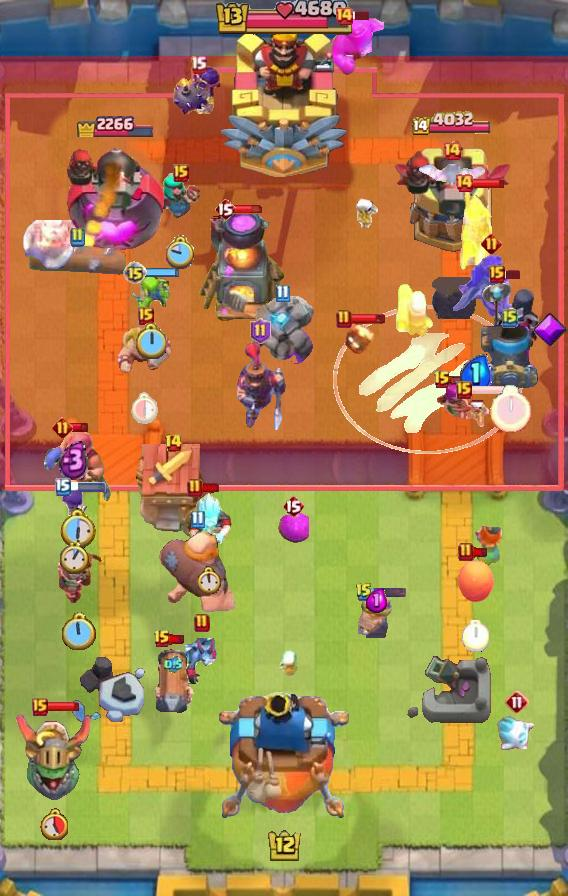archer: (429, 384, 483, 428)
axe: (21, 220, 77, 270)
bar: (470, 384, 507, 396), (350, 313, 386, 325), (371, 587, 407, 598), (145, 267, 180, 278), (69, 482, 107, 492), (46, 701, 80, 712), (471, 178, 505, 189), (233, 204, 265, 214), (202, 482, 221, 494), (502, 269, 522, 280), (351, 10, 371, 21), (70, 422, 89, 433), (449, 375, 468, 385), (169, 634, 186, 645), (472, 547, 489, 558)
bar-level: (505, 690, 529, 714), (123, 261, 147, 285), (250, 318, 271, 344), (282, 494, 304, 518), (214, 197, 236, 221), (52, 417, 73, 438), (481, 233, 502, 254), (454, 173, 474, 193), (442, 141, 462, 161), (334, 6, 354, 26), (164, 433, 183, 453), (153, 629, 171, 649), (355, 582, 373, 602), (433, 370, 451, 390), (190, 55, 207, 74), (194, 613, 210, 633), (458, 542, 474, 562), (187, 478, 203, 498), (336, 309, 352, 329), (502, 308, 518, 328), (69, 227, 85, 247), (32, 698, 48, 716), (55, 478, 71, 496), (456, 381, 472, 399), (138, 307, 154, 325), (489, 265, 505, 283), (173, 164, 189, 182), (190, 510, 205, 529), (275, 284, 290, 303)
bat-evolution: (417, 160, 487, 190)
bomb: (432, 277, 476, 319)
bomber-evolution: (171, 64, 225, 120)
cannoneer-tower: (392, 138, 514, 256), (64, 138, 165, 256)
clock: (490, 385, 531, 433), (58, 508, 96, 549), (60, 612, 96, 653), (135, 323, 166, 359), (166, 235, 196, 269), (131, 391, 161, 424), (60, 542, 89, 574), (40, 808, 68, 840), (462, 620, 489, 652), (198, 566, 222, 594)
elite-barbarian: (115, 325, 177, 377), (358, 592, 394, 639)
elixir: (459, 354, 492, 393), (59, 440, 89, 480), (366, 588, 387, 613), (164, 656, 183, 673)
elixir-golem-mid: (328, 18, 384, 76)
elixir-golem-small: (277, 513, 309, 543)
evolution-symbol: (532, 312, 568, 348)
fire-spirit: (343, 322, 375, 356)
firecracker: (394, 281, 436, 339)
goblin: (129, 275, 171, 317)
golemite: (247, 296, 317, 364)
ice-spirit: (496, 714, 538, 756)
ice-wizard: (186, 489, 234, 553)
king-tower: (219, 23, 349, 181), (219, 692, 349, 826)
king-tower-bar: (213, 0, 355, 38)
little-prince: (52, 548, 104, 604)
minion: (180, 638, 224, 684)
mortar: (480, 325, 540, 389)
musketeer: (456, 188, 494, 286)
night-witch: (481, 279, 541, 351)
phoenix-egg: (456, 556, 494, 604)
rascal-girl: (158, 173, 204, 225)
skeleton: (460, 395, 490, 427), (351, 196, 379, 228), (278, 648, 304, 680)
skeleton-evolution: (58, 487, 90, 527)
the-log: (27, 239, 127, 277)
tower-bar: (412, 111, 494, 138), (74, 110, 154, 137)
valkyrie: (469, 521, 507, 573)
